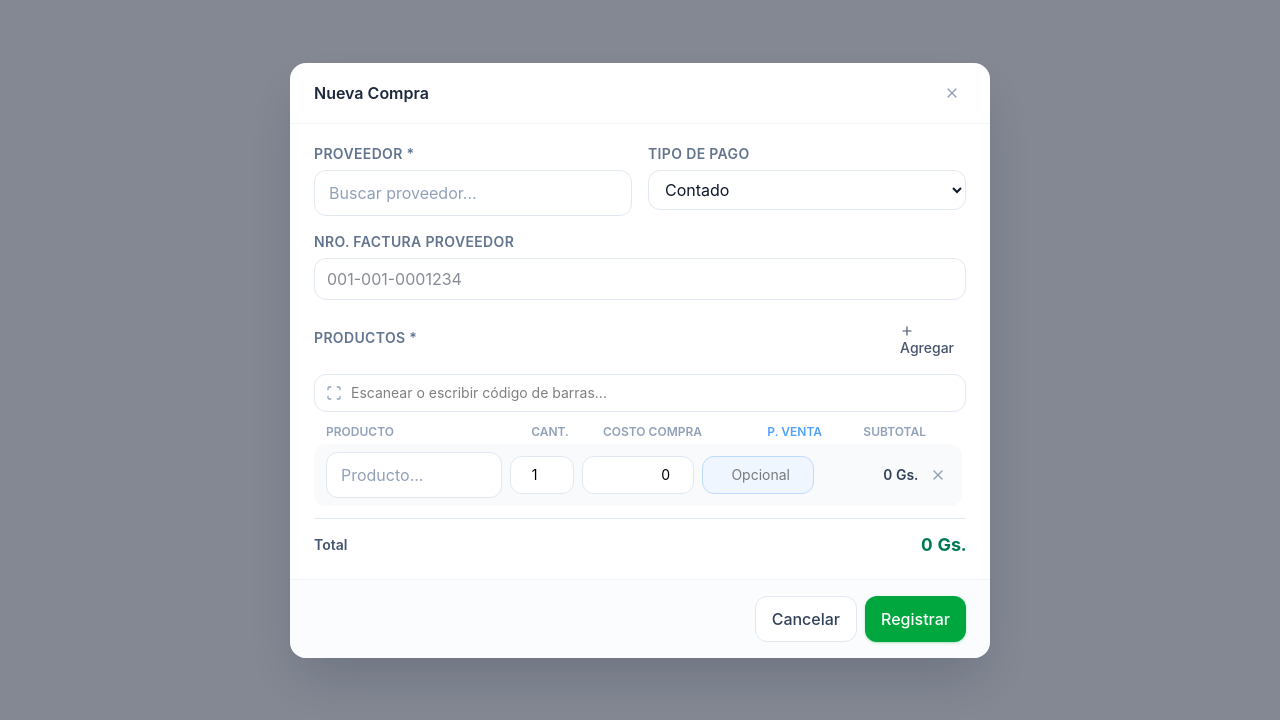
Test: ModalCompra — margen costo vs. venta (Bloque 1) › muestra margen negativo (pérdida) si el costo supera el precio de venta
The width and height of the screenshot is (1280, 720).
Click the dropdown with placeholder "Buscar proveedor...": (473, 192) [314,170,632,216]
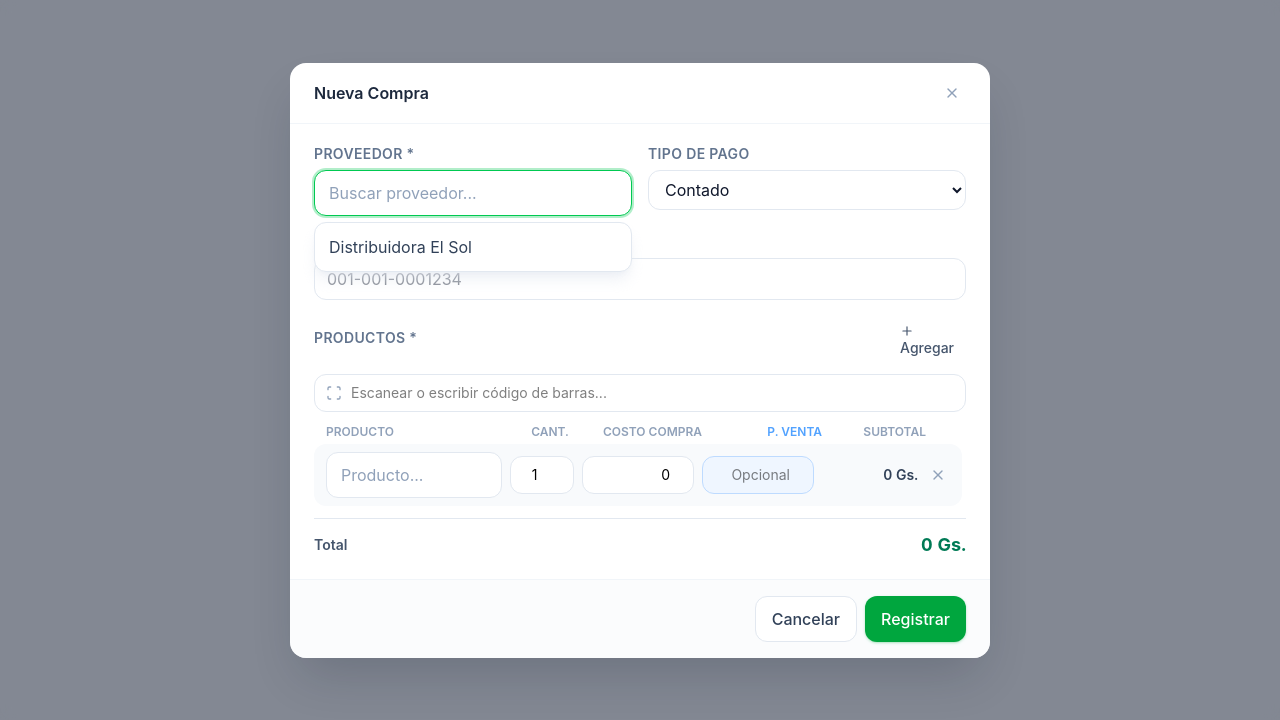
Click the option "Distribuidora El Sol": (400, 246) [329,236,472,256]
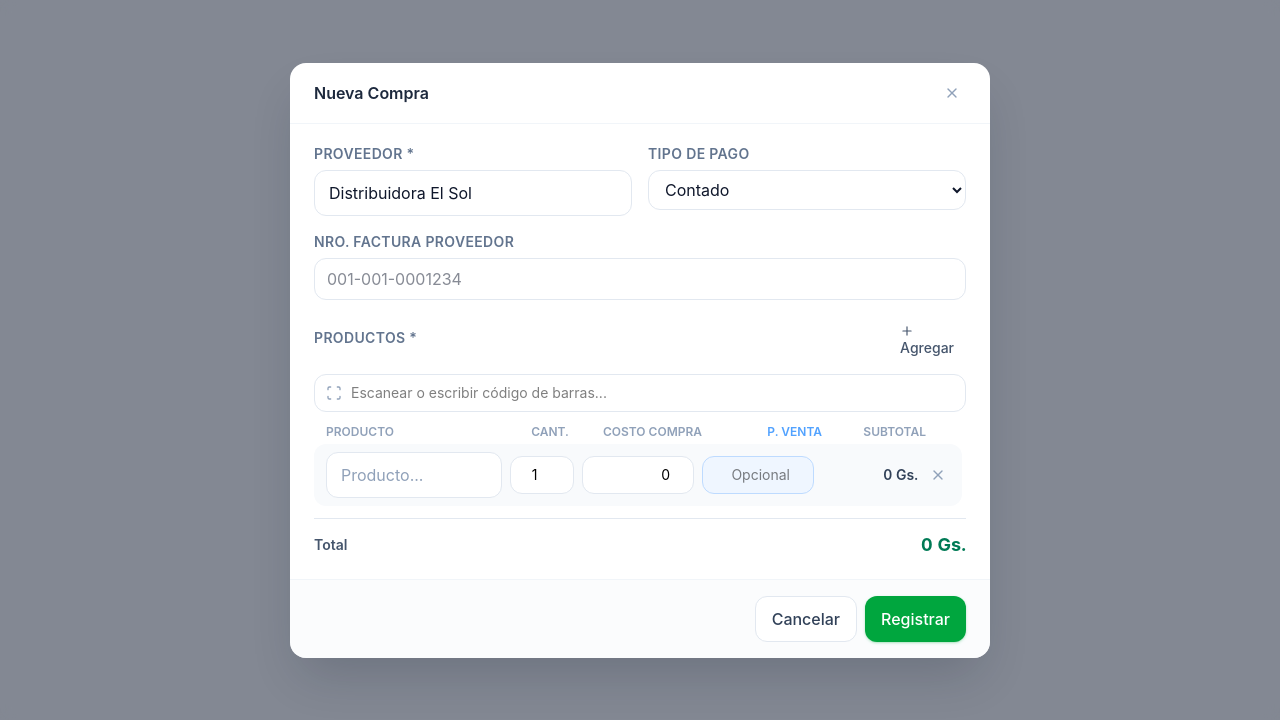
Click the dropdown with placeholder "Producto...": (414, 474) [326,452,502,498]
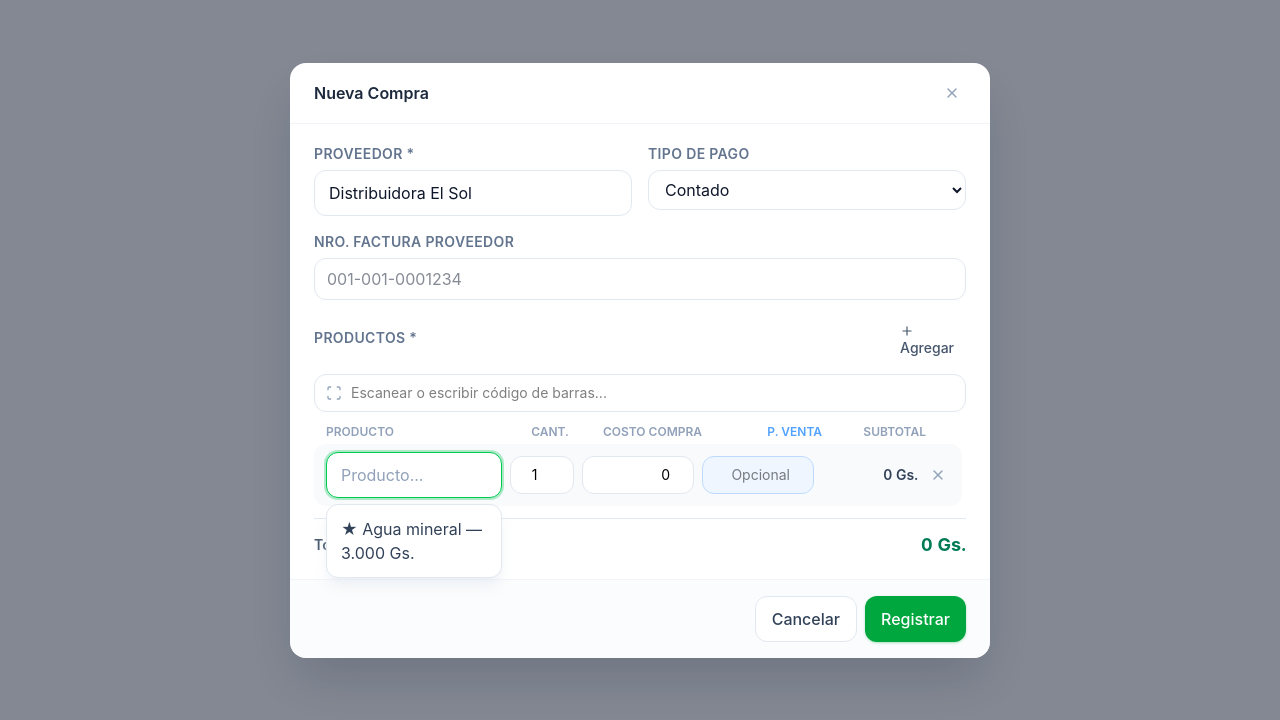
Click the option "★ Agua mineral — 3.000 Gs.": (412, 540) [341,518,482,562]
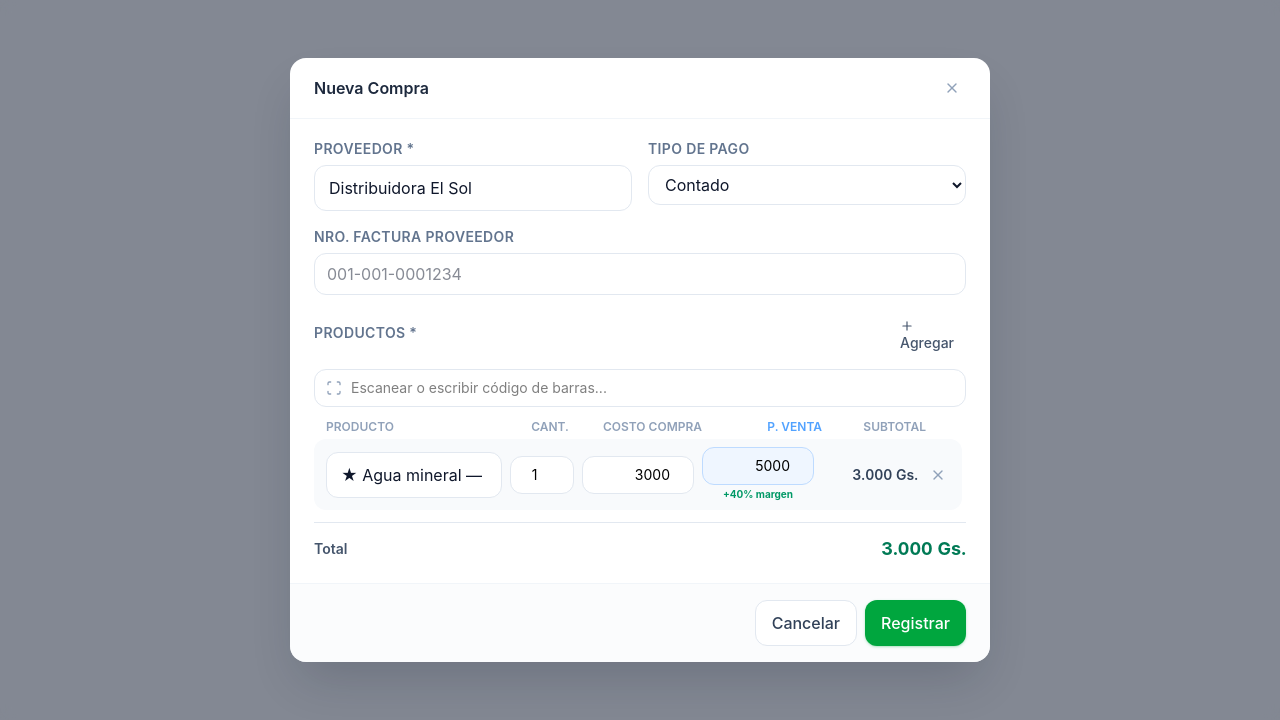
Expected: the text "+40% margen" is shown, [723,488,793,500]
Replace the text in the 2nd number field with placeholder "Costo" with "6000": (638, 474) [582,456,694,494]
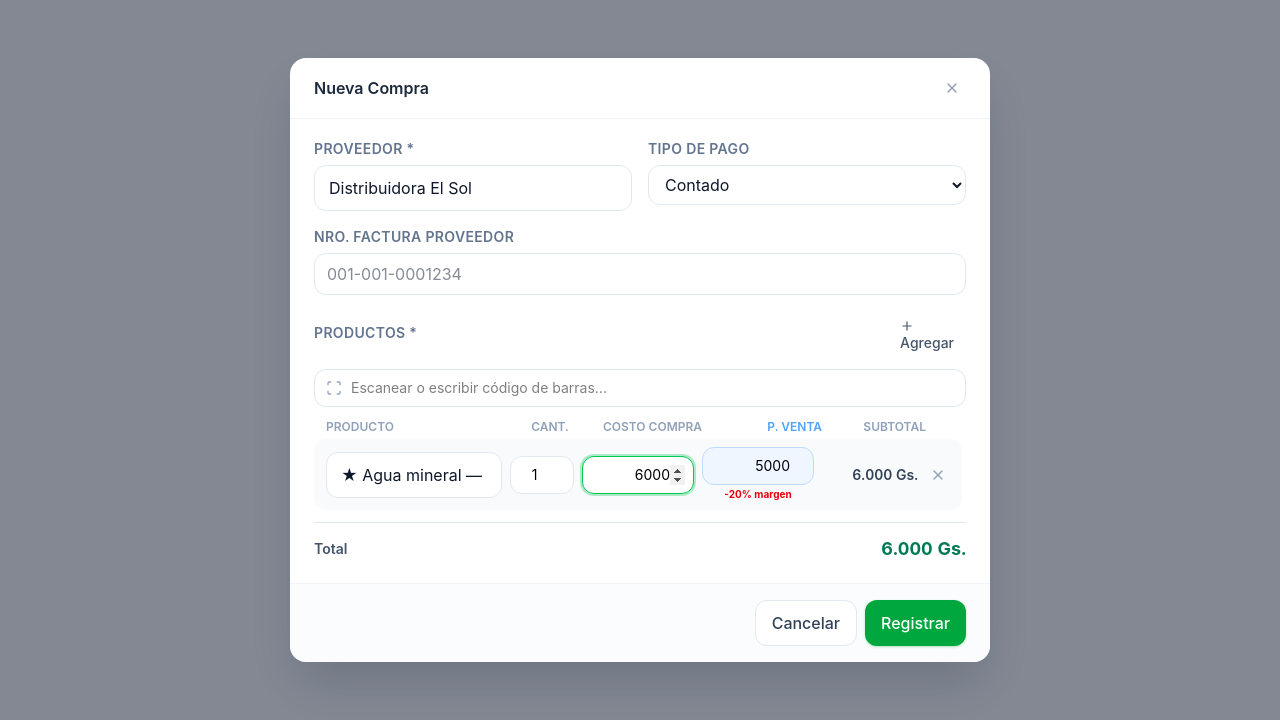
Expected: the text "-20% margen" is shown, [724,488,792,500]
